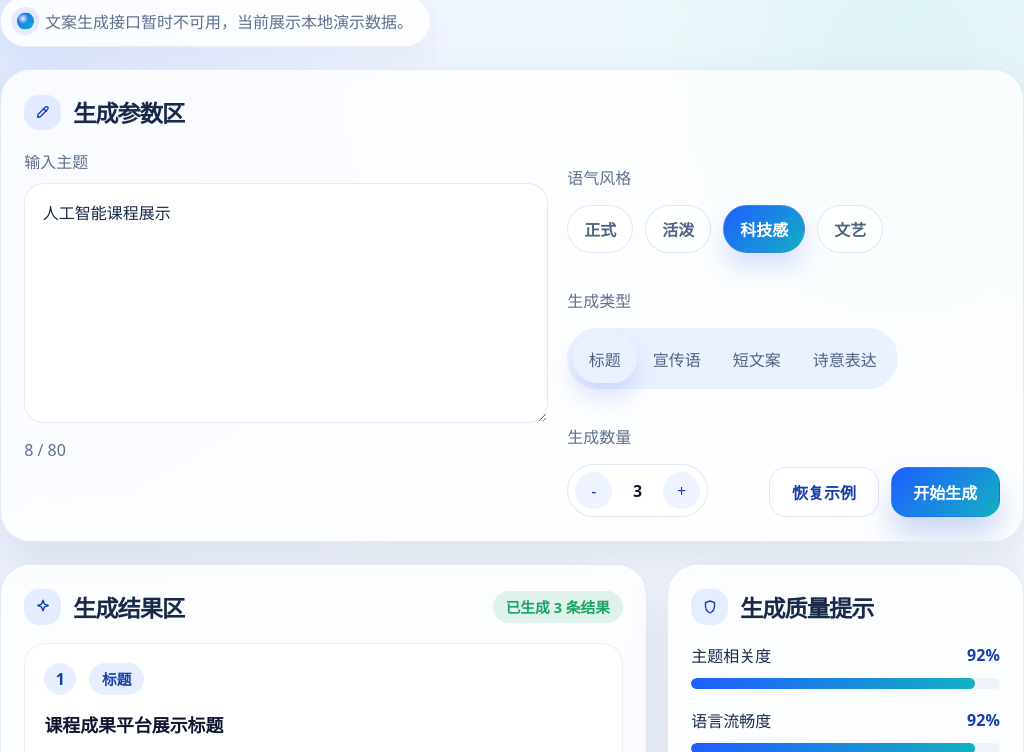
Test: TextGenerationPage › falls back to local generation that still uses the current input theme when the backend generate request fails
This screenshot has width=1024, height=752.
Replace the text in the text box with "离线答辩演示专题" at (286, 303), box [24,183,548,423]
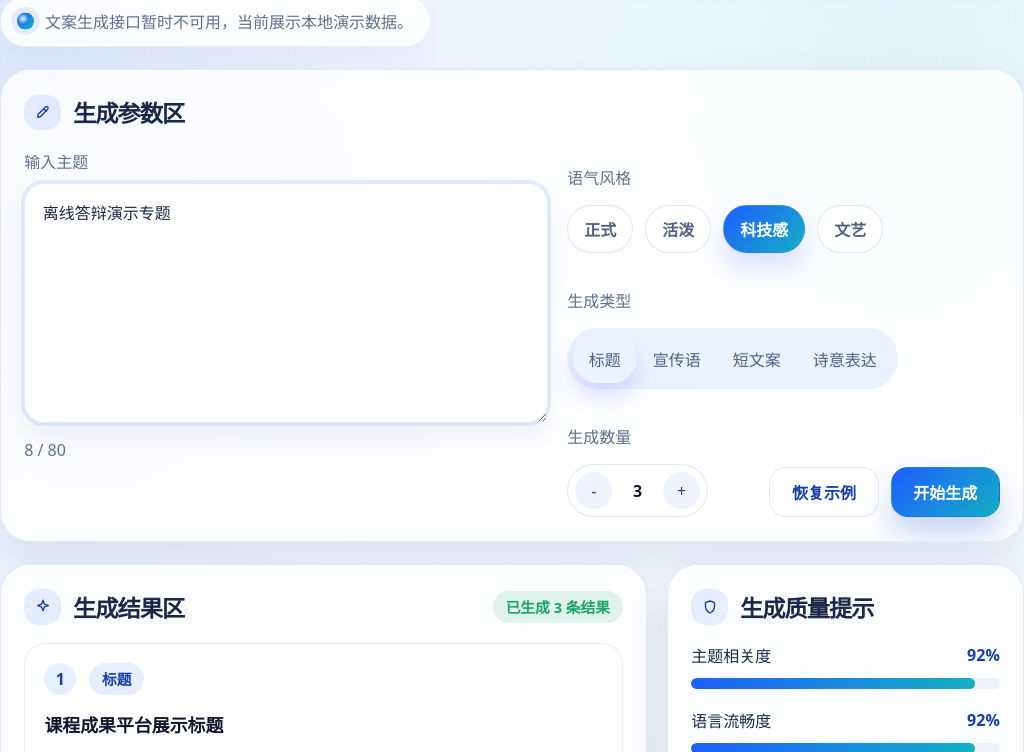
Click the button "正式" at (600, 229), box [567,205,633,253]
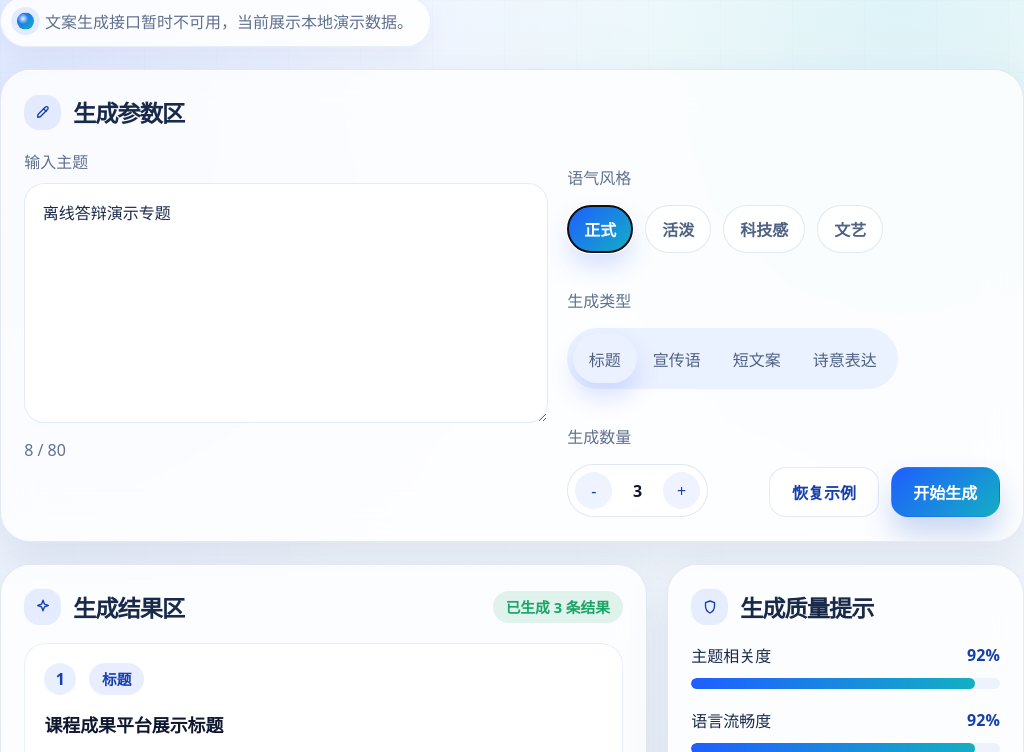
Click the button "宣传语" at (677, 359), box [637,334,717,384]
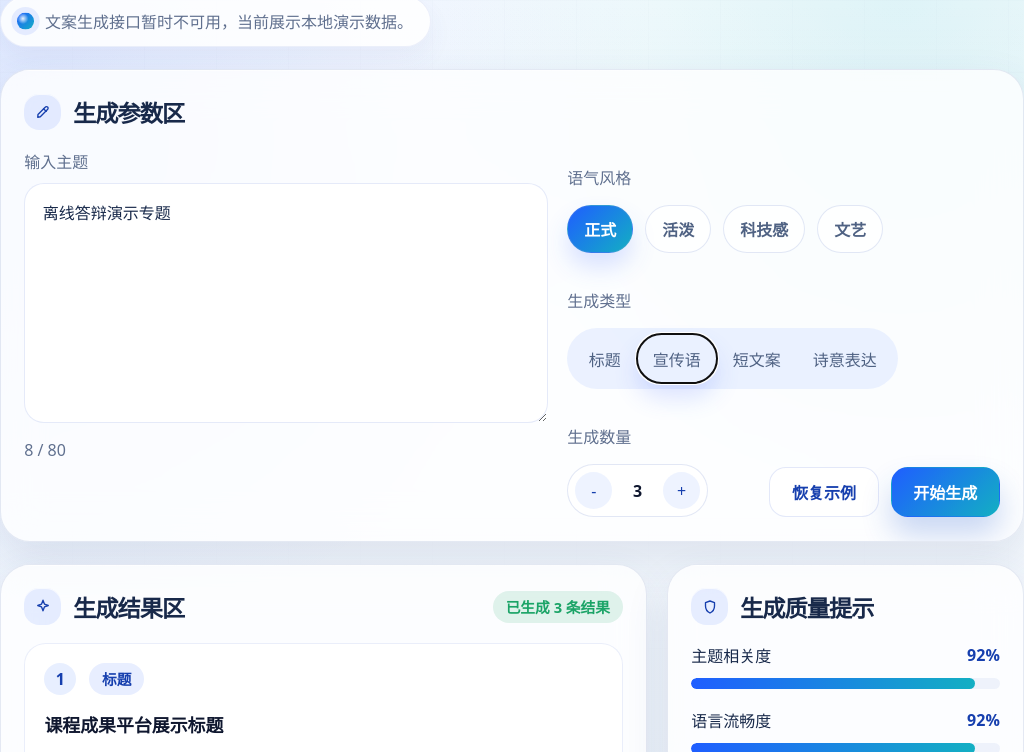
Click the button "开始生成" at (945, 492), box [891,467,1000,517]
(page scrolled)
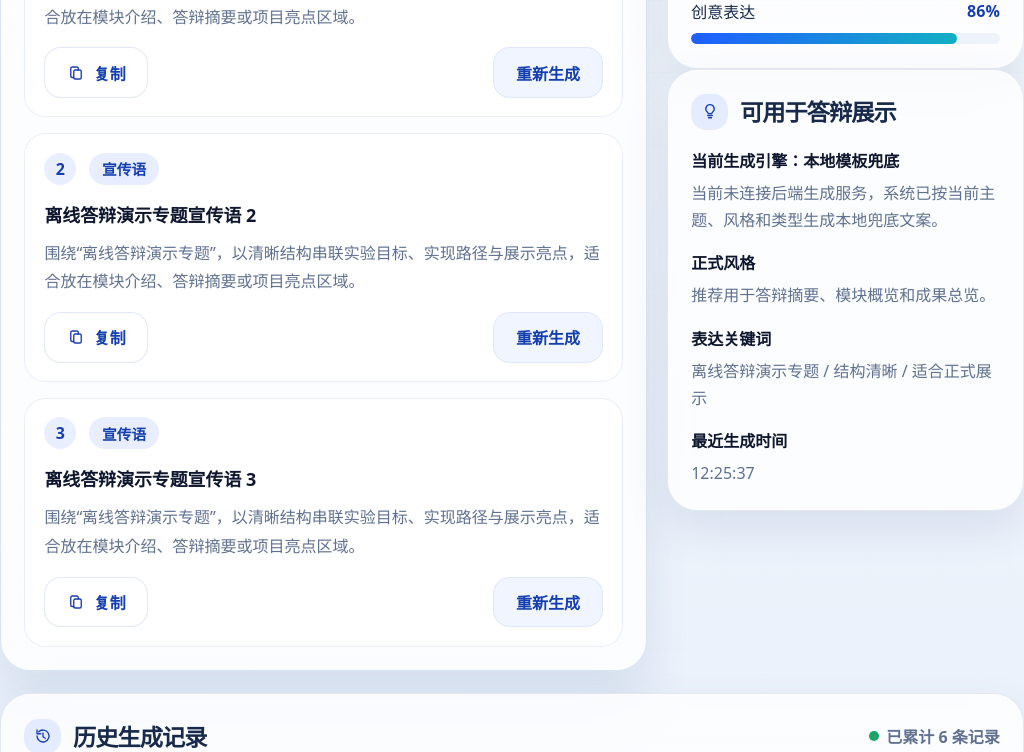
Expected: the text "当前生成引擎：本地模板兜底" is shown, [691,150,899,172]
Expected: the text "离线答辩演示专题 / 结构清晰 / 适合正式展示" is shown, [691,358,1000,412]
